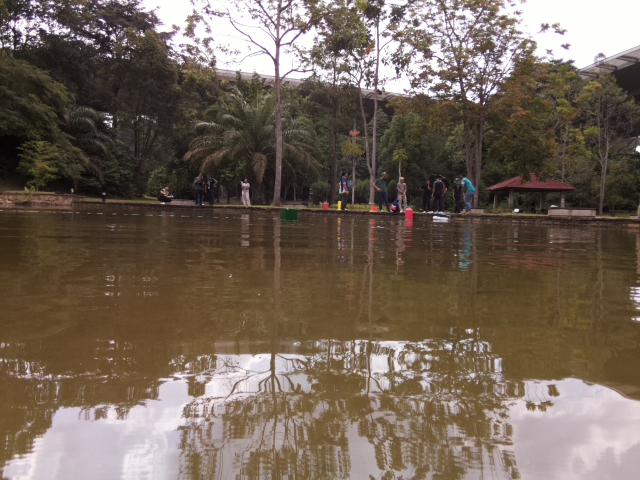obstacle: (280, 208, 299, 222)
